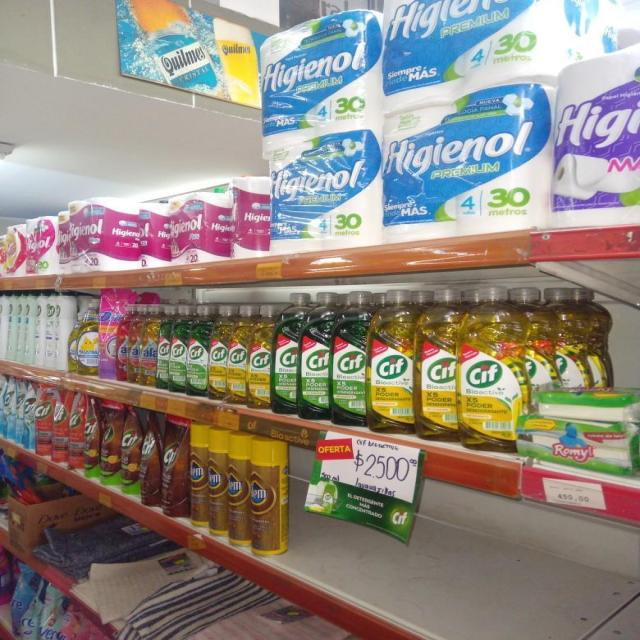ala_conc_amarillo: (129, 302, 141, 384)
ala_conc_rojo: (100, 294, 116, 382), (116, 300, 129, 382)
cif_conc_bot_amarilla: (460, 286, 524, 451), (370, 288, 414, 434), (416, 288, 458, 440), (525, 290, 555, 394), (248, 304, 272, 410), (228, 304, 248, 405), (208, 304, 228, 401), (142, 304, 156, 388)
cif_conc_botella_verde: (332, 291, 368, 426), (300, 292, 331, 420), (273, 294, 300, 416), (187, 304, 208, 397), (170, 304, 187, 393), (156, 304, 170, 391)
magistral_con_amarillo: (74, 296, 98, 377)
